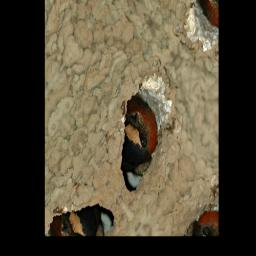Swallow: (102, 87, 168, 186)
